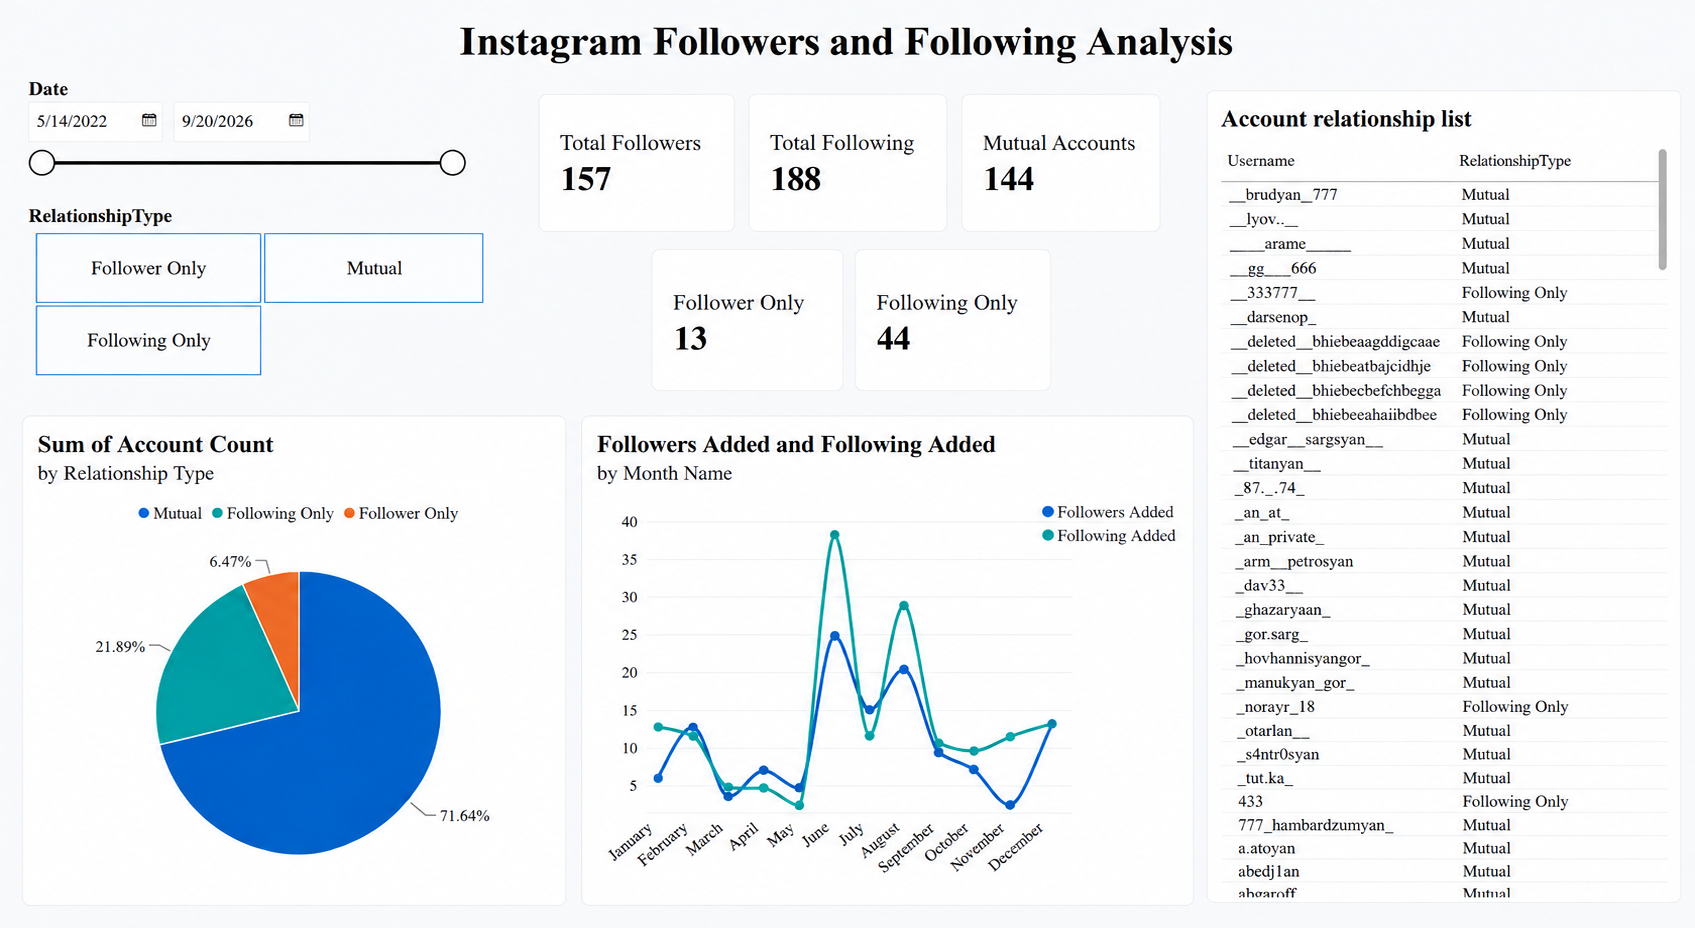

The page's visual inventory and layout, read from the dashboard file:
{"tool":"powerbi","page":{"name":"Followers & Following","canvas":[1920,1080],"ordinal":1},"visuals":[{"type":"textbox","box":[534.1,59.6,851.9,86.1],"z":0},{"type":"cardVisual","fields":{"Data":["FactFollowers.Total Followers"]},"box":[640,147.5,202.5,147.5],"z":1000},{"type":"cardVisual","fields":{"Data":["FactFollowing.Total Following"]},"box":[860,145,200,150.8],"z":2000},{"type":"cardVisual","fields":{"Data":["DimAccount.Mutual Accounts"]},"box":[1082.5,147.5,204.9,150.8],"z":3000},{"type":"cardVisual","fields":{"Data":["DimAccount.Follower Only"]},"box":[770,305,190.2,167.2],"z":4000},{"type":"cardVisual","fields":{"Data":["DimAccount.Following Only"]},"box":[972.5,305,200,167.2],"z":5000},{"type":"pieChart","title":"Sum of Account Count ","fields":{"Category":["RelationshipSummary.RelationshipType"],"Y":["Sum(RelationshipSummary.AccountCount)"]},"box":[57.5,497.5,607.5,540],"z":6000},{"type":"lineChart","fields":{"Category":["DimDate.Month Name"],"Y":["FactFollowing.Followers Added","FactFollowing.Following Added"]},"box":[685,497.5,667.5,540],"z":7000},{"type":"tableEx","title":"Account relationship list","fields":{"Values":["DimAccount.Username","DimAccount.RelationshipType"]},"box":[1377.1,145.7,516.4,891.6],"z":8000},{"type":"slicer","fields":{"Values":["DimAccount.RelationshipType"]},"box":[57.5,260,509.3,179.6],"z":9000},{"type":"slicer","fields":{"Values":["DimDate.Date"]},"box":[57.4,114.8,466.7,164.8],"z":9001}]}

Visuals, with their boxes in screenshot pixels (x1, y1, x2, y2), scaled from the page's 1920x1080 canvas onto the 1695x928 screenshot:
textbox: {"left": 472, "top": 51, "right": 1224, "bottom": 125}
cardVisual - FactFollowers.Total Followers: {"left": 565, "top": 127, "right": 744, "bottom": 253}
cardVisual - FactFollowing.Total Following: {"left": 759, "top": 125, "right": 936, "bottom": 254}
cardVisual - DimAccount.Mutual Accounts: {"left": 956, "top": 127, "right": 1137, "bottom": 256}
cardVisual - DimAccount.Follower Only: {"left": 680, "top": 262, "right": 848, "bottom": 406}
cardVisual - DimAccount.Following Only: {"left": 859, "top": 262, "right": 1035, "bottom": 406}
"Sum of Account Count " pieChart: {"left": 51, "top": 427, "right": 587, "bottom": 891}
lineChart - DimDate.Month Name x FactFollowing.Followers Added: {"left": 605, "top": 427, "right": 1194, "bottom": 891}
"Account relationship list" tableEx: {"left": 1216, "top": 125, "right": 1672, "bottom": 891}
slicer - DimAccount.RelationshipType: {"left": 51, "top": 223, "right": 500, "bottom": 378}
slicer - DimDate.Date: {"left": 51, "top": 99, "right": 463, "bottom": 240}
